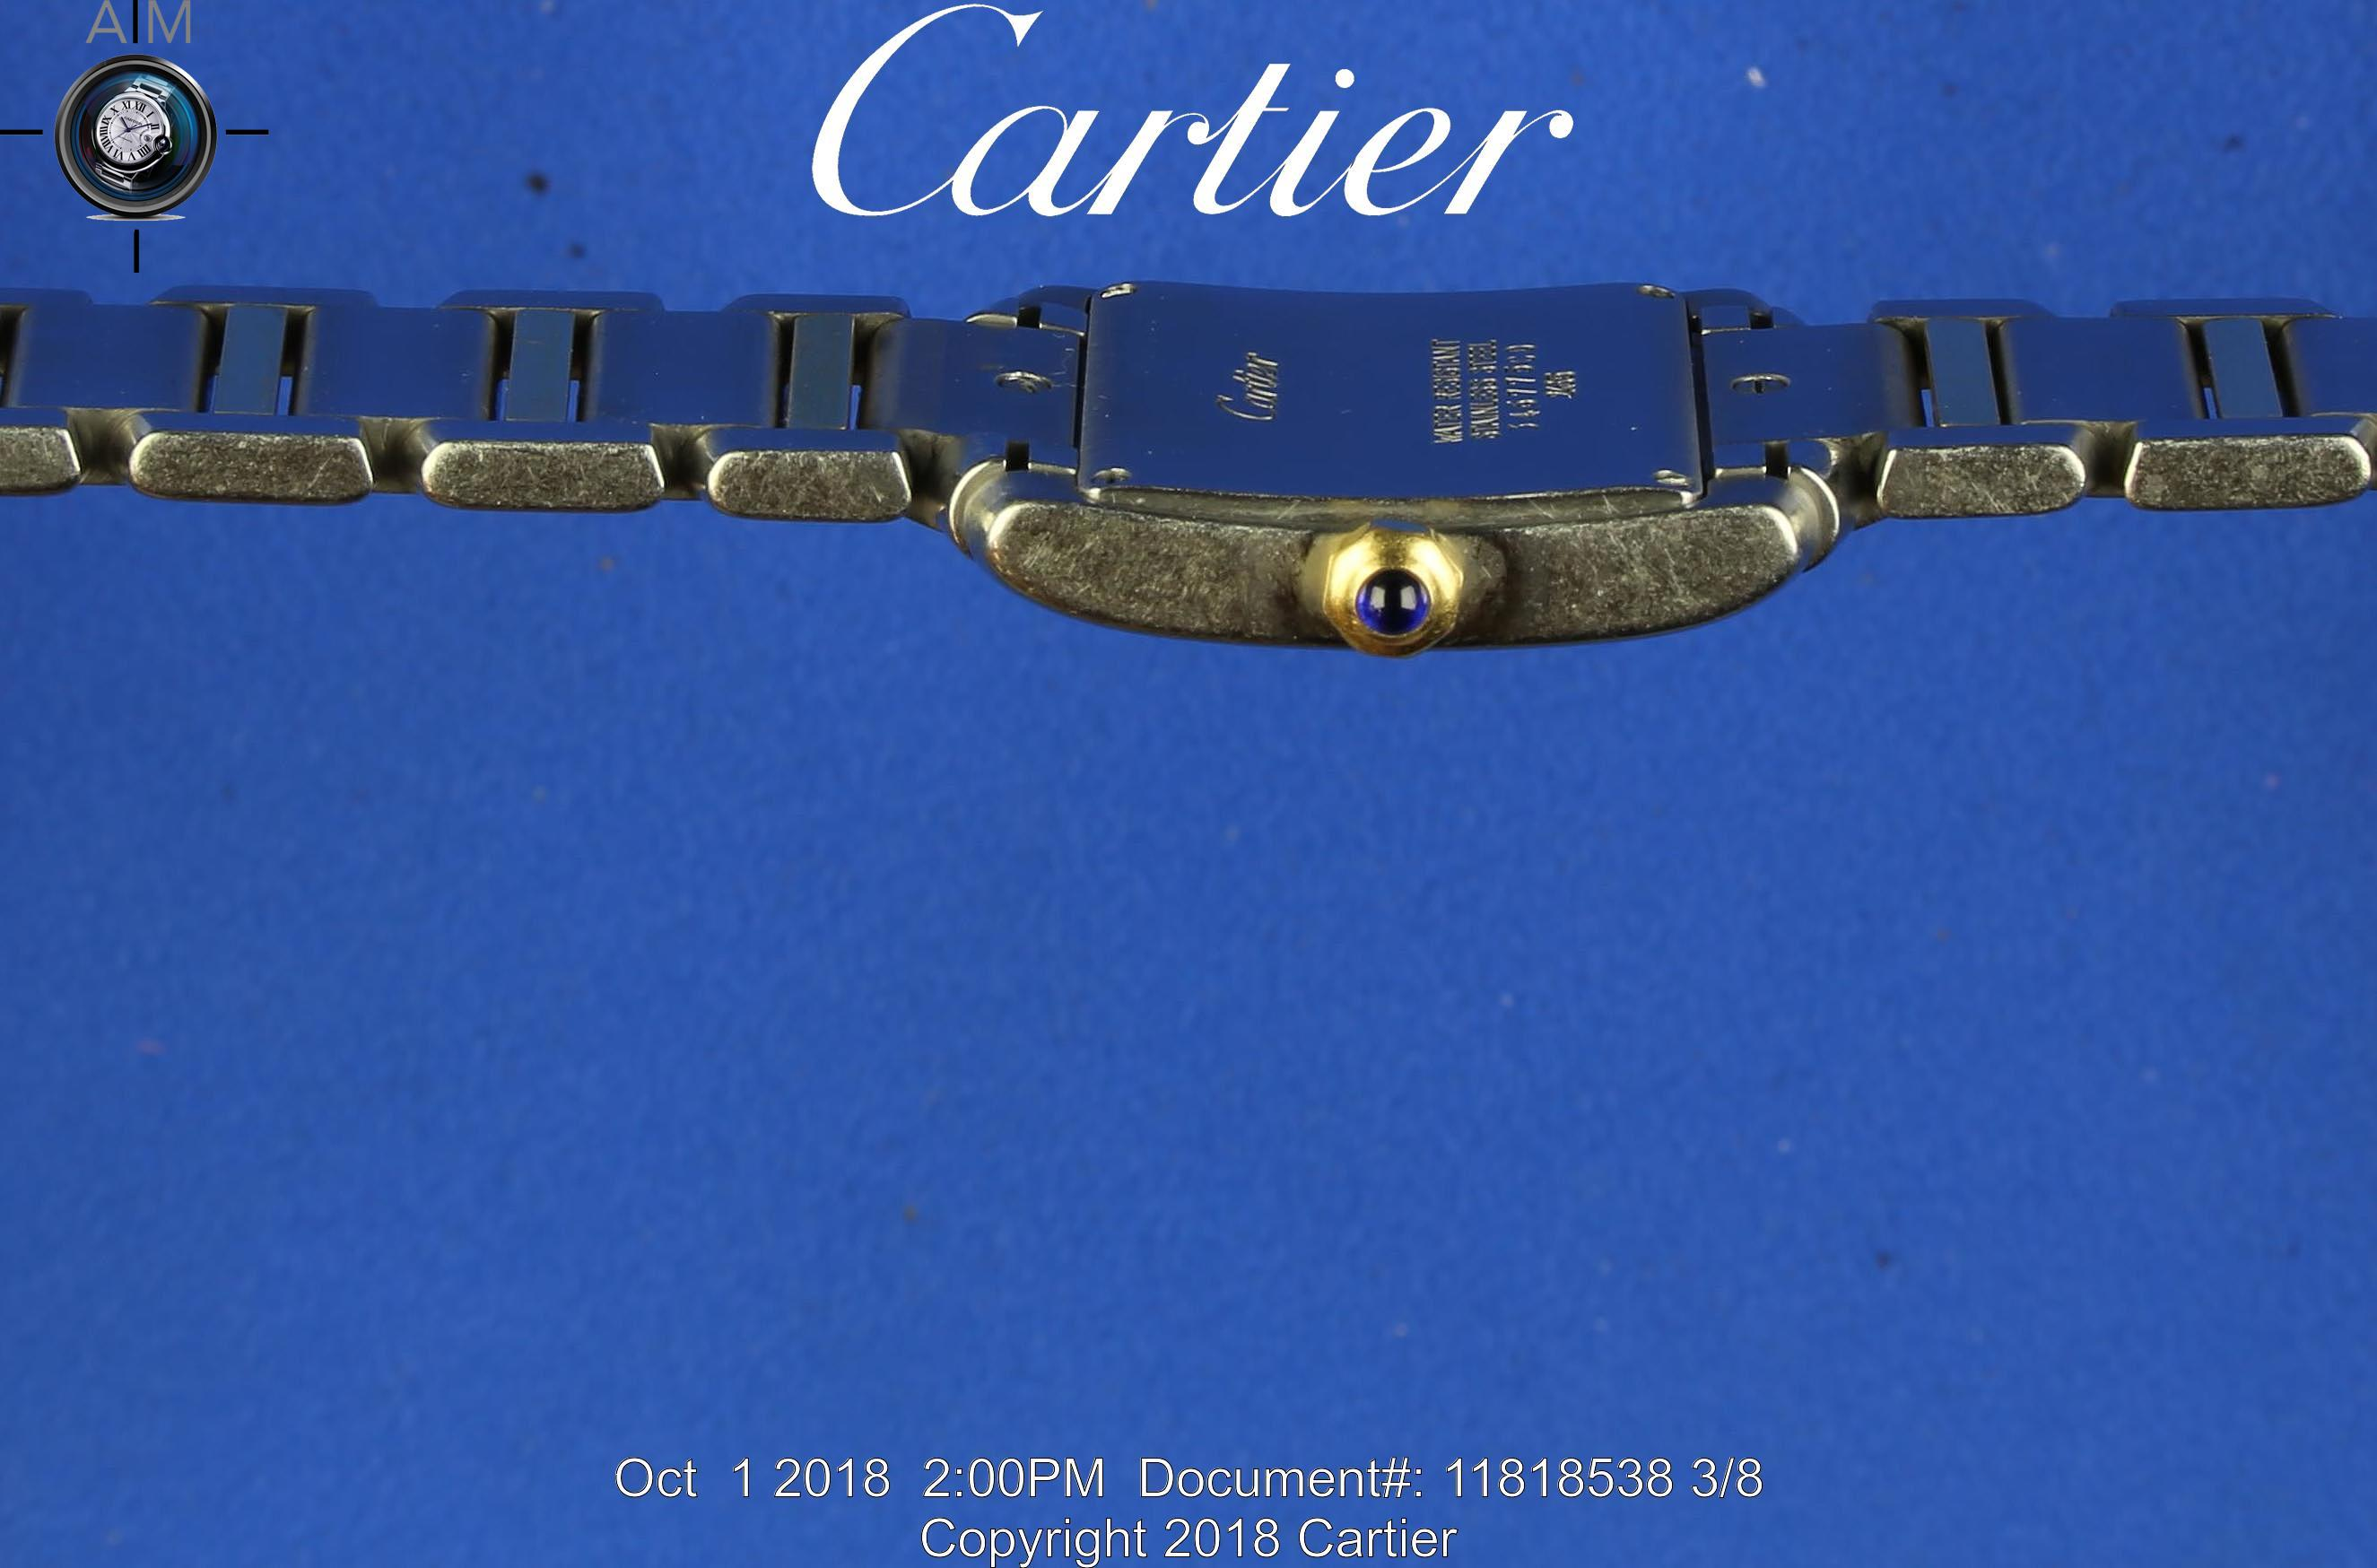watchback: (1025, 261, 1807, 541)
